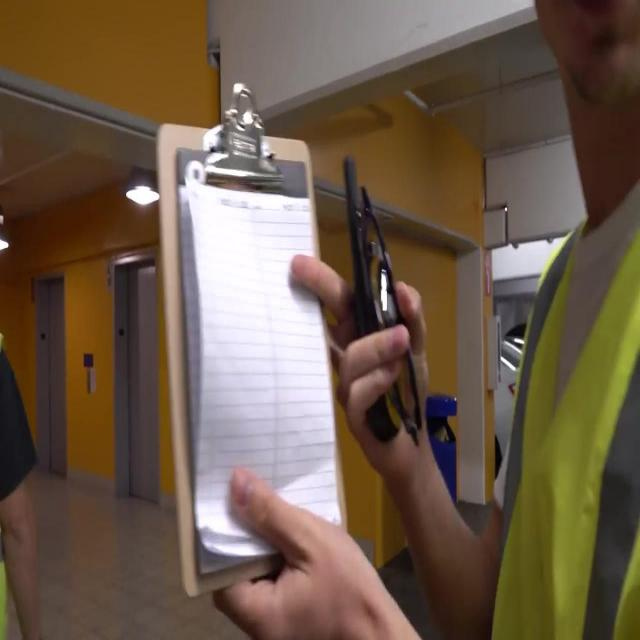Reflective-Jacket: (491, 173, 637, 634)
